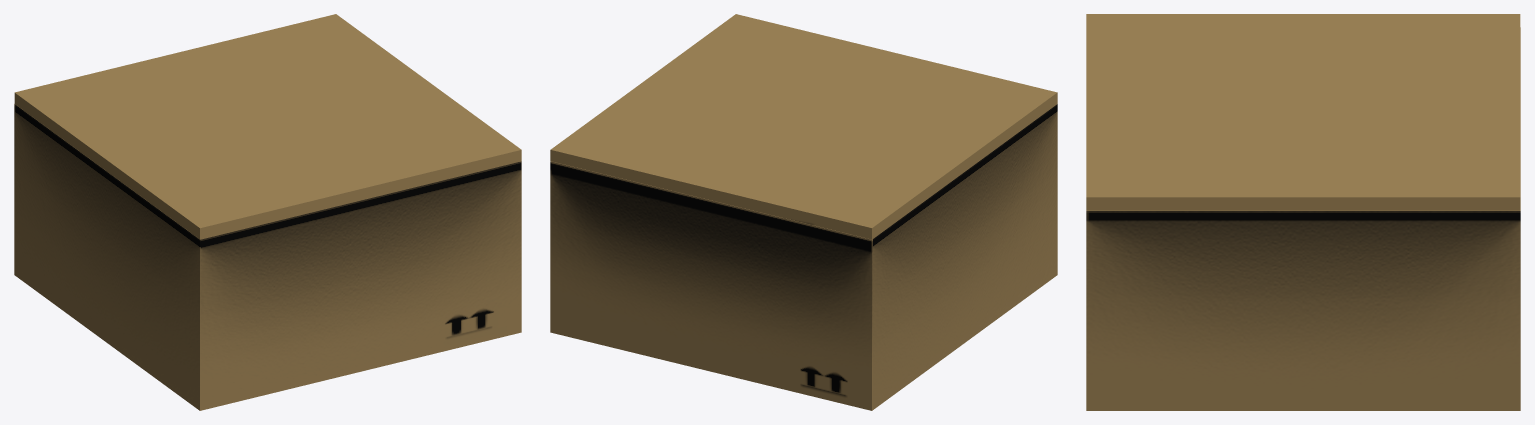
The model's file is empty_box (2).fbx.
3 renders of one model, left to right at view 1: azimuth 30°, elevation 25°; view 2: azimuth 150°, elevation 25°; view 3: azimuth 270°, elevation 25°, orthographic. The views are drawn at different scales.
Parts seen in each view (by area): view 1: pCube6, Cube, Cube.001; view 2: pCube6, Cube, Cube.001; view 3: pCube6, Cube.001, Cube.
Part boxes in pixels (<box>): pCube6: <box>14,104,521,410</box>; Cube: <box>14,53,360,239</box>; Cube.001: <box>176,14,521,200</box>; pCube6: <box>550,104,1057,410</box>; Cube: <box>711,53,1057,239</box>; Cube.001: <box>550,14,896,200</box>; pCube6: <box>1086,27,1520,410</box>; Cube.001: <box>1086,105,1520,210</box>; Cube: <box>1086,14,1520,105</box>.
Size of the model in its own units: 100 by 54.26 by 100.
